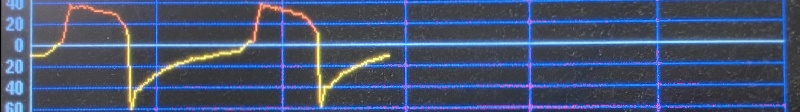normal_flow: (34, 0, 401, 112)
